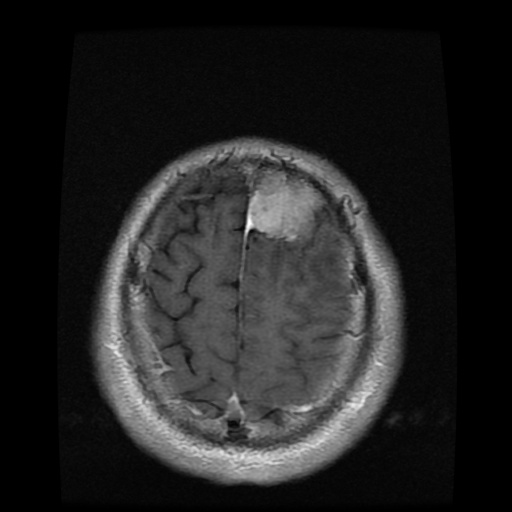meningioma: (250, 169, 326, 238)
